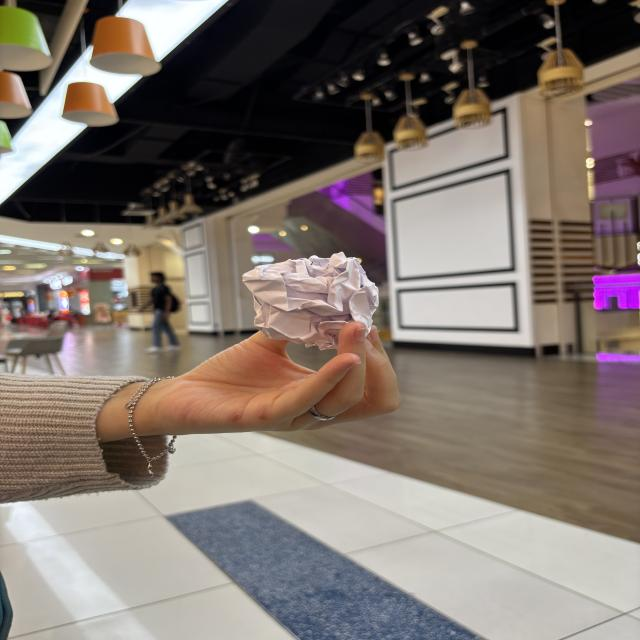crumpled_paper: (235, 247, 389, 354)
